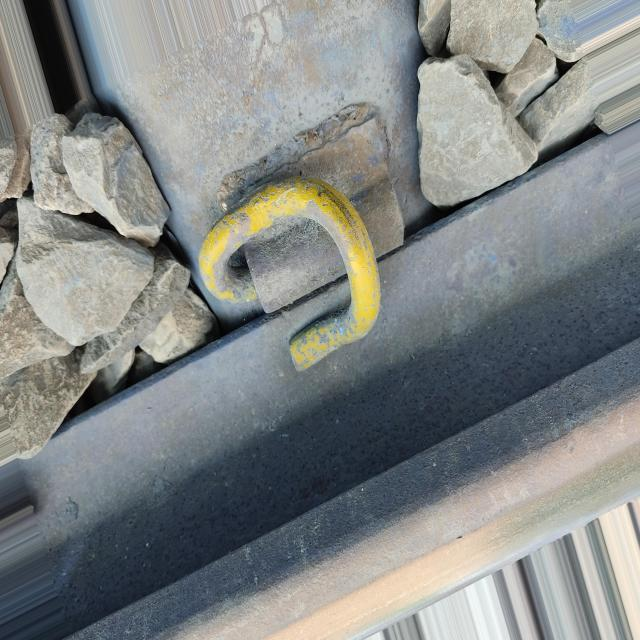Good Fasteners: (181, 105, 436, 395)
